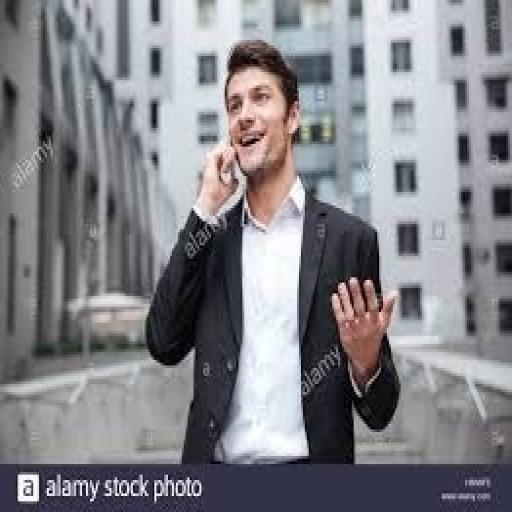calling: (142, 37, 402, 467)
